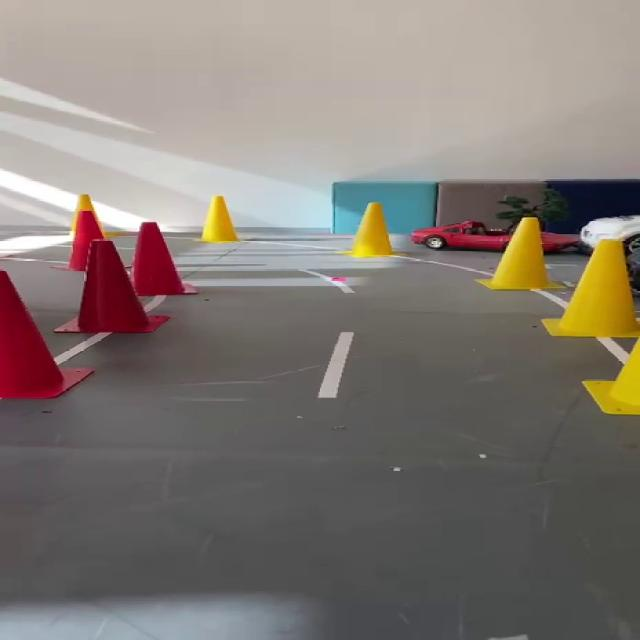Cone-red: (0, 270, 92, 398), (55, 238, 167, 332), (128, 222, 193, 295), (68, 195, 103, 271)
Cones-yellow: (542, 238, 639, 415), (480, 217, 556, 289), (348, 203, 392, 257), (200, 196, 239, 241), (75, 196, 95, 220)
